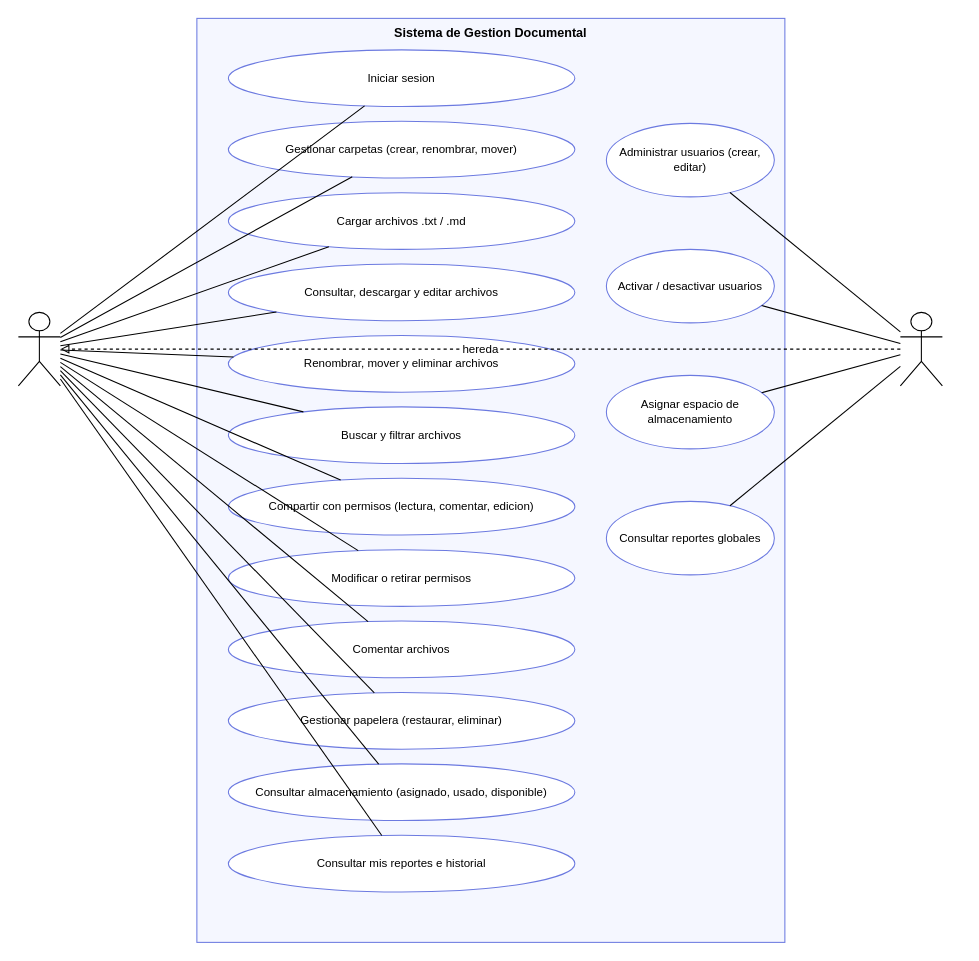
Some shapes in this 979 by 961 pixel diagram are drawn without their labels. The box of each missing label's shape, as (x1, y1, x2, y2) in pixels:
Administrador: (899, 311, 942, 386)
Usuario: (17, 311, 60, 386)
